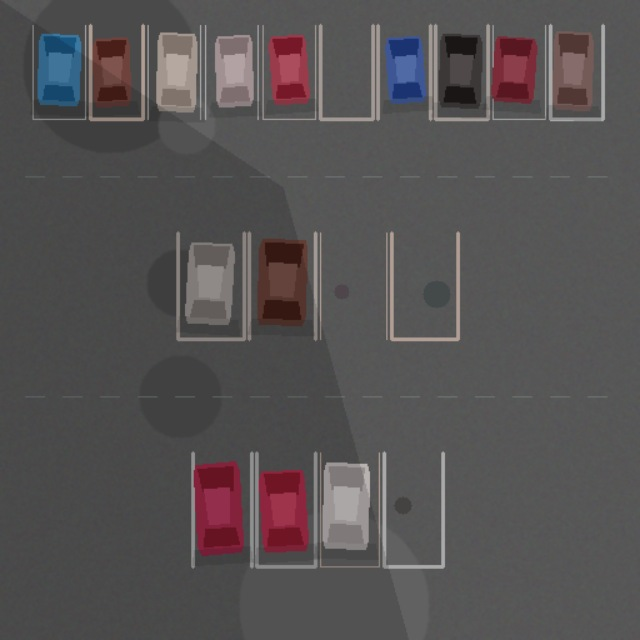space-empty: (391, 232, 458, 339), (320, 232, 386, 339), (384, 452, 443, 566), (320, 25, 373, 119)
space-occupied: (178, 232, 244, 339), (249, 232, 315, 339), (256, 452, 315, 566), (320, 452, 379, 566), (193, 452, 251, 566), (90, 25, 143, 119), (147, 25, 200, 119), (377, 25, 430, 119), (550, 25, 603, 119), (33, 25, 85, 119), (205, 25, 257, 119), (263, 25, 315, 119), (435, 25, 487, 119), (493, 25, 545, 119)
